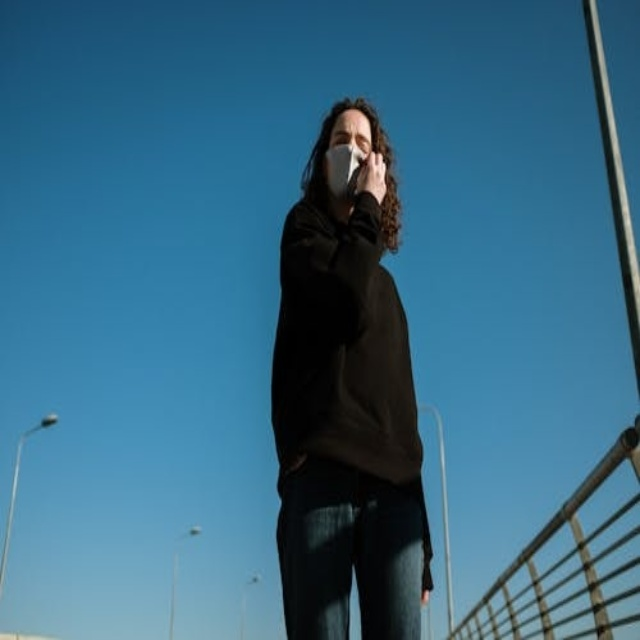Mascara: (325, 142, 368, 199)
Sin_guantes: (361, 144, 390, 198)
